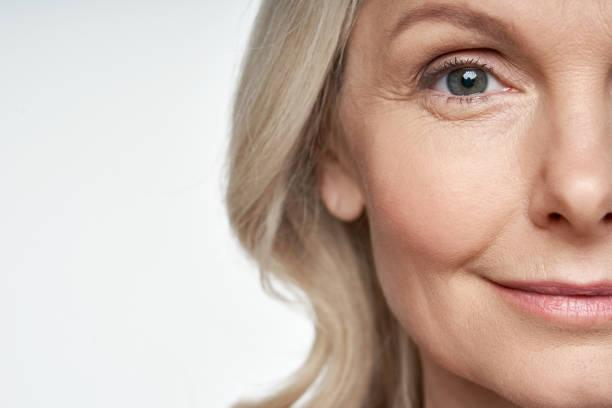Dry-Skin: (312, 46, 428, 257)
